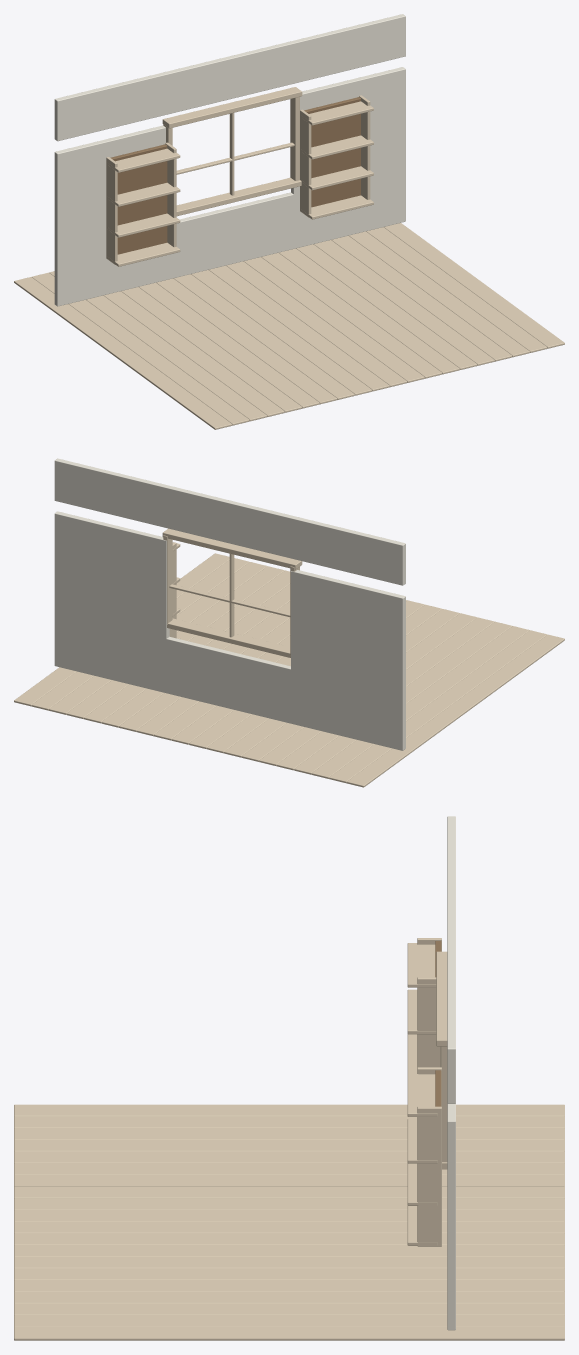
The model's file is studio-room-v2.glb.
The picture shows the model from 3 angles, top to bottom: view 1: azimuth 30°, elevation 25°; view 2: azimuth 150°, elevation 25°; view 3: azimuth 270°, elevation 25°; orthographic projection. The views are drawn at different scales.
Parts seen in each view (by area): view 1: Floor plank (×20), Lower plaster wall, Upper plaster wall, Side plaster wall (×2), Cabinet dark backing (×2), Cabinet oak shelf (×8), Cabinet stile (×4), Window sill and lintel (×2), Window jamb, Window crossbar; view 2: Floor plank (×20), Side plaster wall (×2), Lower plaster wall, Upper plaster wall, Window sill and lintel (×2), Window crossbar, Window jamb, Window centre mullion; view 3: Floor plank (×20), Cabinet stile (×2), Upper plaster wall, Cabinet oak shelf (×2), Side plaster wall, Window sill and lintel, Window jamb, Lower plaster wall.
Part boxes in pixels (x1,y1,x2,y2): Floor plank (×20): [14, 223, 564, 429]; Lower plaster wall: [54, 167, 405, 306]; Upper plaster wall: [54, 14, 405, 141]; Side plaster wall (×2): [54, 67, 405, 252]; Cabinet dark backing (×2): [110, 97, 360, 254]; Cabinet oak shelf (×8): [107, 101, 373, 266]; Cabinet stile (×4): [106, 95, 370, 264]; Window sill and lintel (×2): [162, 87, 302, 216]; Window jamb: [290, 97, 299, 180]; Window crossbar: [176, 142, 294, 174]; Floor plank (×20): [14, 553, 564, 787]; Side plaster wall (×2): [54, 511, 405, 696]; Lower plaster wall: [54, 612, 405, 750]; Upper plaster wall: [54, 458, 405, 585]; Window sill and lintel (×2): [162, 528, 302, 657]; Window crossbar: [169, 584, 290, 617]; Window jamb: [163, 535, 172, 625]; Window centre mullion: [229, 554, 234, 637]; Floor plank (×20): [14, 1104, 564, 1340]; Cabinet stile (×2): [417, 977, 441, 1246]; Upper plaster wall: [447, 816, 455, 1103]; Cabinet oak shelf (×2): [407, 943, 437, 1116]; Side plaster wall: [447, 1104, 455, 1256]; Window sill and lintel: [436, 951, 447, 1046]; Window jamb: [440, 1046, 447, 1162]; Lower plaster wall: [447, 1256, 455, 1330].
Bounding box in the file's own units: 9.04 × 5.26 × 9.
